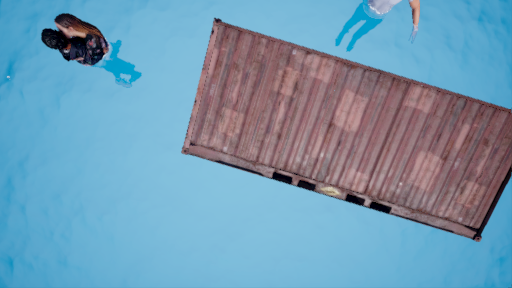person: (37, 15, 154, 92)
